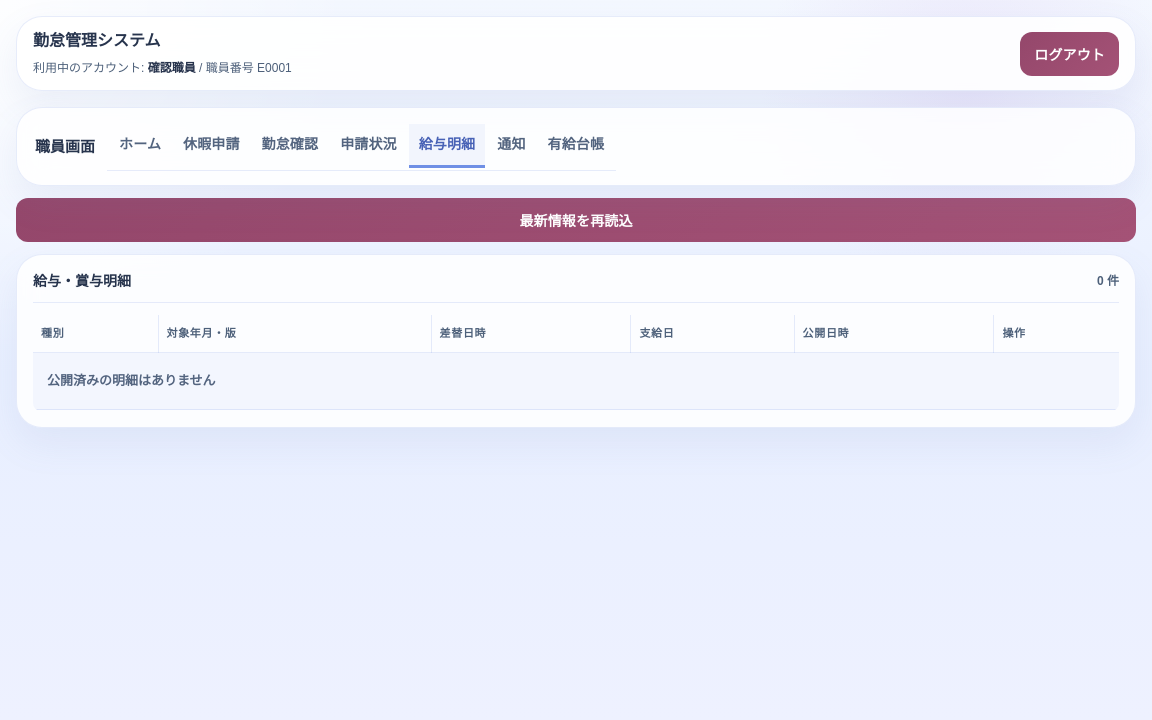
Test: EmployeePortalSection › 休暇申請の取消は確認後にだけ実行される
The width and height of the screenshot is (1152, 720).
Later steps or results of the test are not shown.
Step 1. Click the button "申請状況" → (368, 146), box [330, 124, 407, 168]
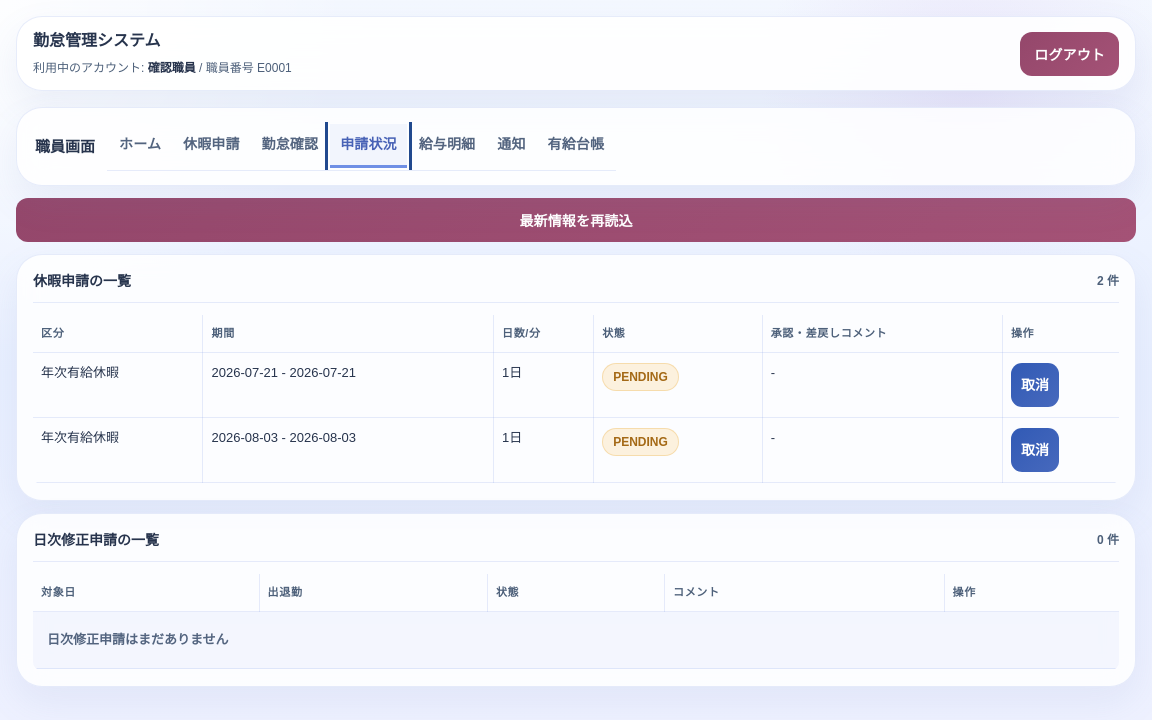
Step 2. Click the button "取消" in the row of "2026-08-03 - 2026-08-03" → (1035, 450), box [1011, 428, 1059, 472]
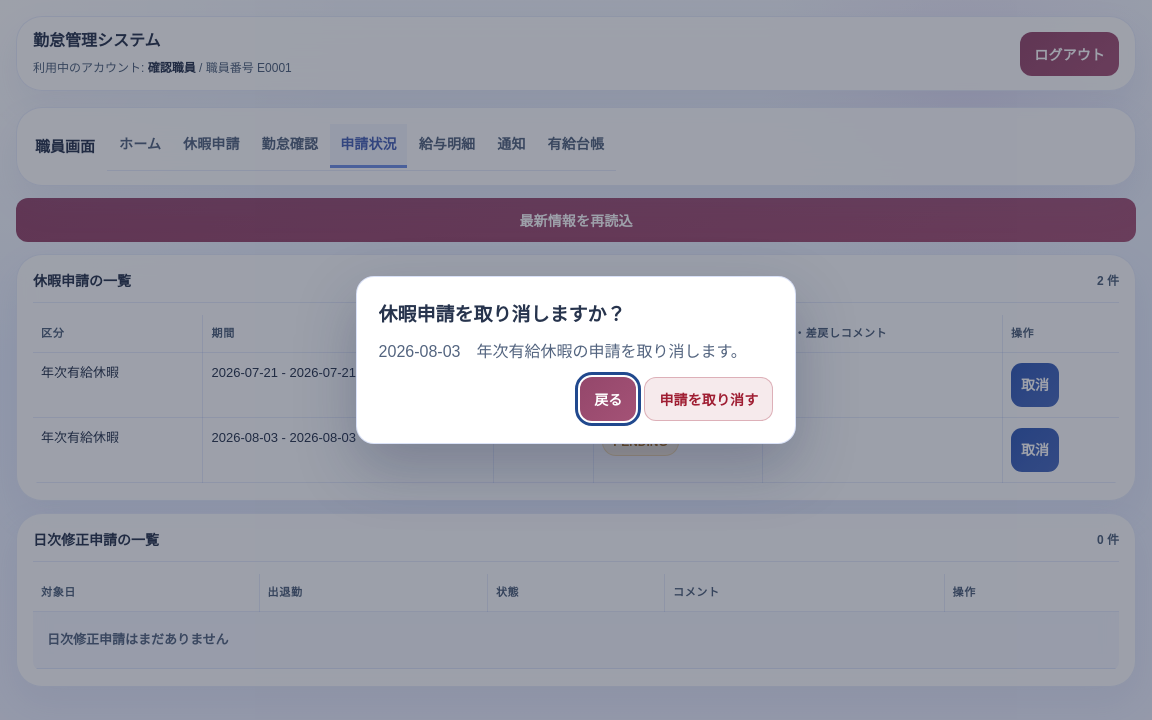
Expected: the dialog "休暇申請を取り消しますか？" does not show "2026-07-21", [356, 276, 796, 444]
Result: the dialog "休暇申請を取り消しますか？" shows "2026-08-03" at [379, 343, 747, 360]
Result: the dialog "休暇申請を取り消しますか？" shows "年次有給休暇" at [379, 343, 747, 360]
